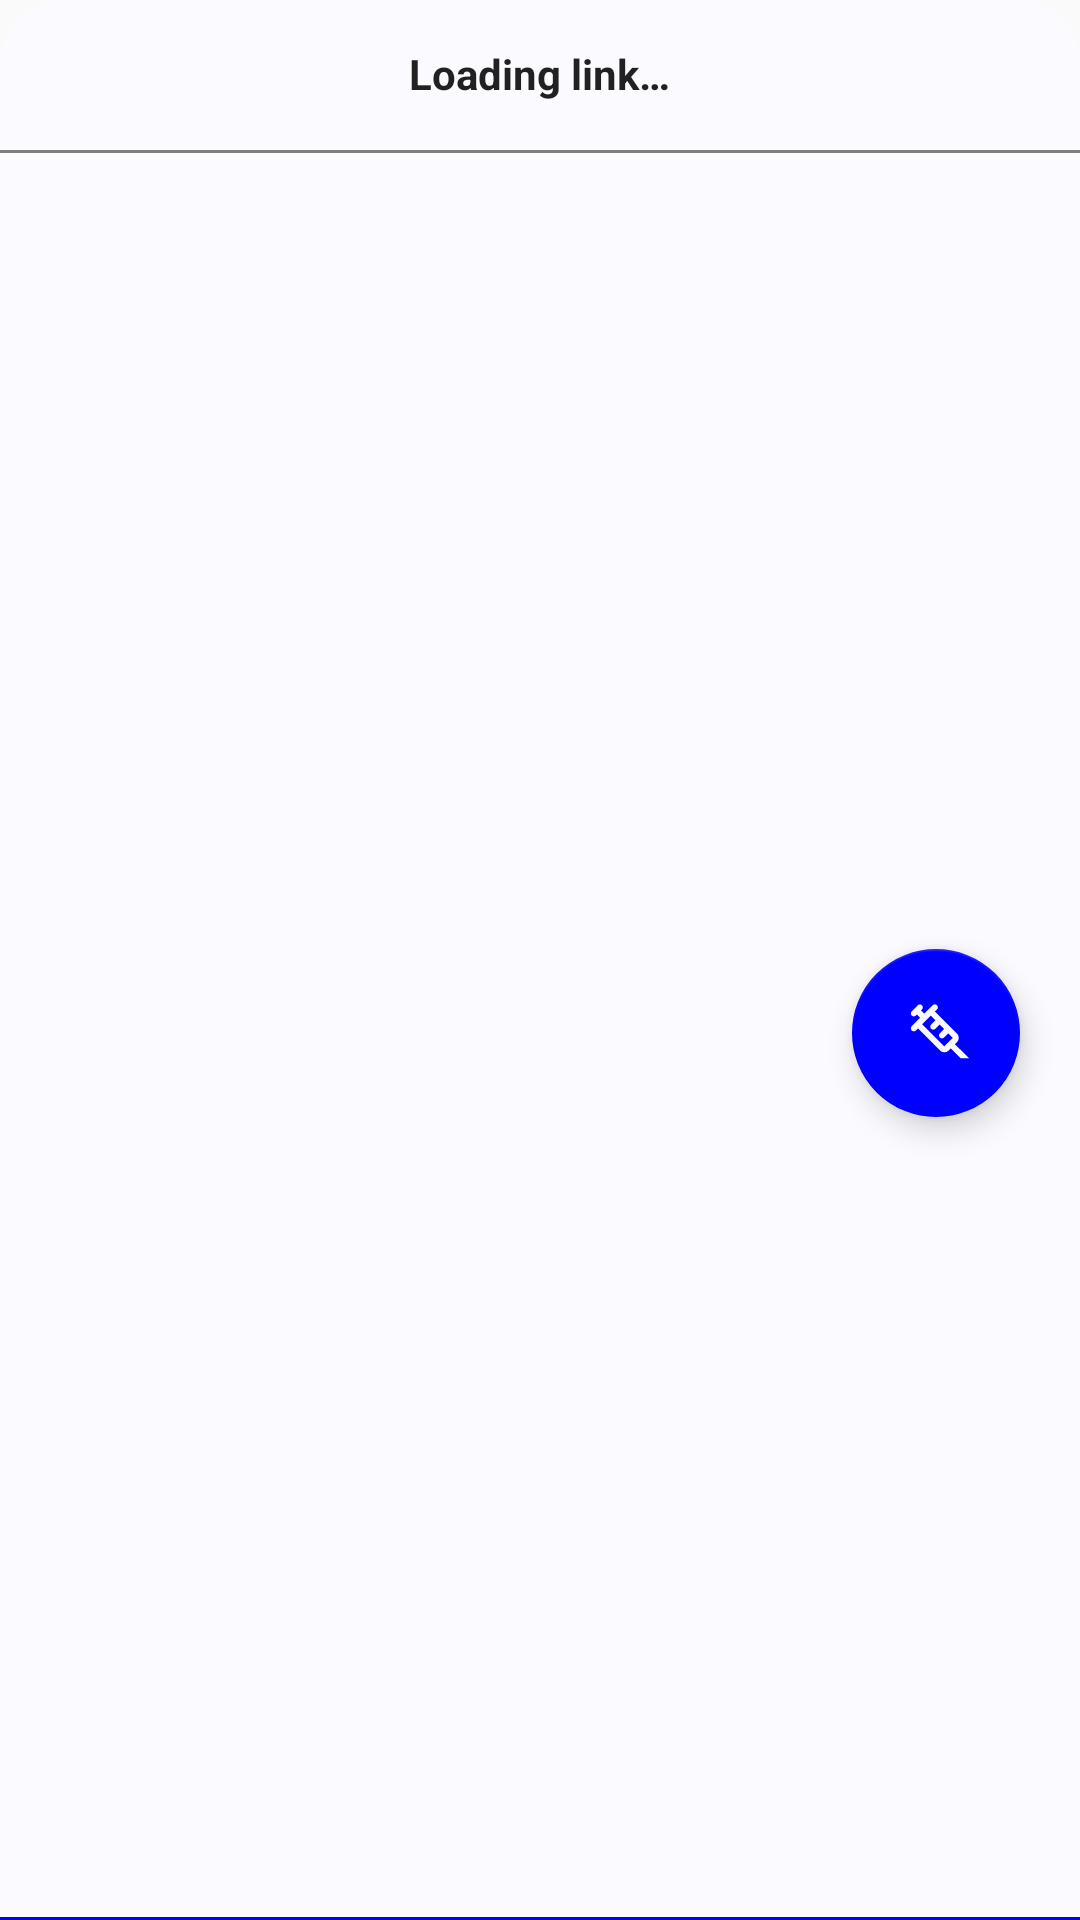

Where to tap for icons on this 1080px x 1920px app screen, as (x,y):
Inject: (936,1033)
